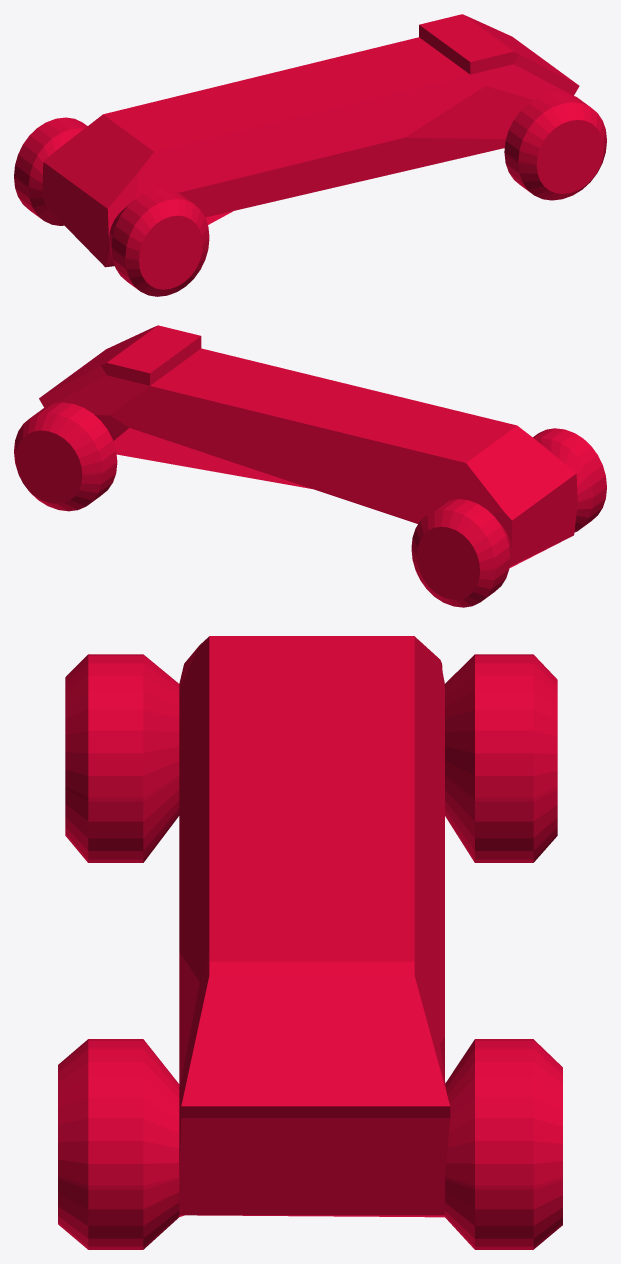
Rendered from toy.fbx.
3 renders of one model, top to bottom at view 1: azimuth 30°, elevation 25°; view 2: azimuth 150°, elevation 25°; view 3: azimuth 270°, elevation 25°, orthographic. The views are drawn at different scales.
Parts seen in each view (by area): view 1: Cube; view 2: Cube; view 3: Cube.
Boxes of the visible parts, x1,y1,x2,y2 form: Cube: [14, 14, 606, 296]; Cube: [14, 325, 606, 607]; Cube: [58, 636, 562, 1249].
Bounding box in the file's own units: 1085 × 280 × 492.
